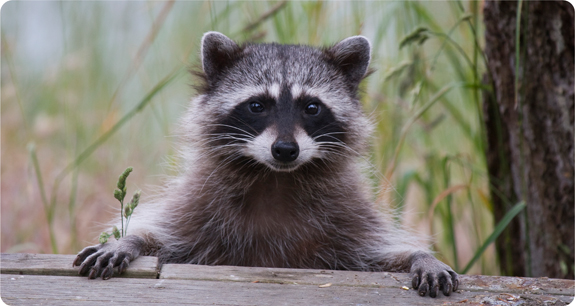raccoon: (69, 30, 482, 306)
